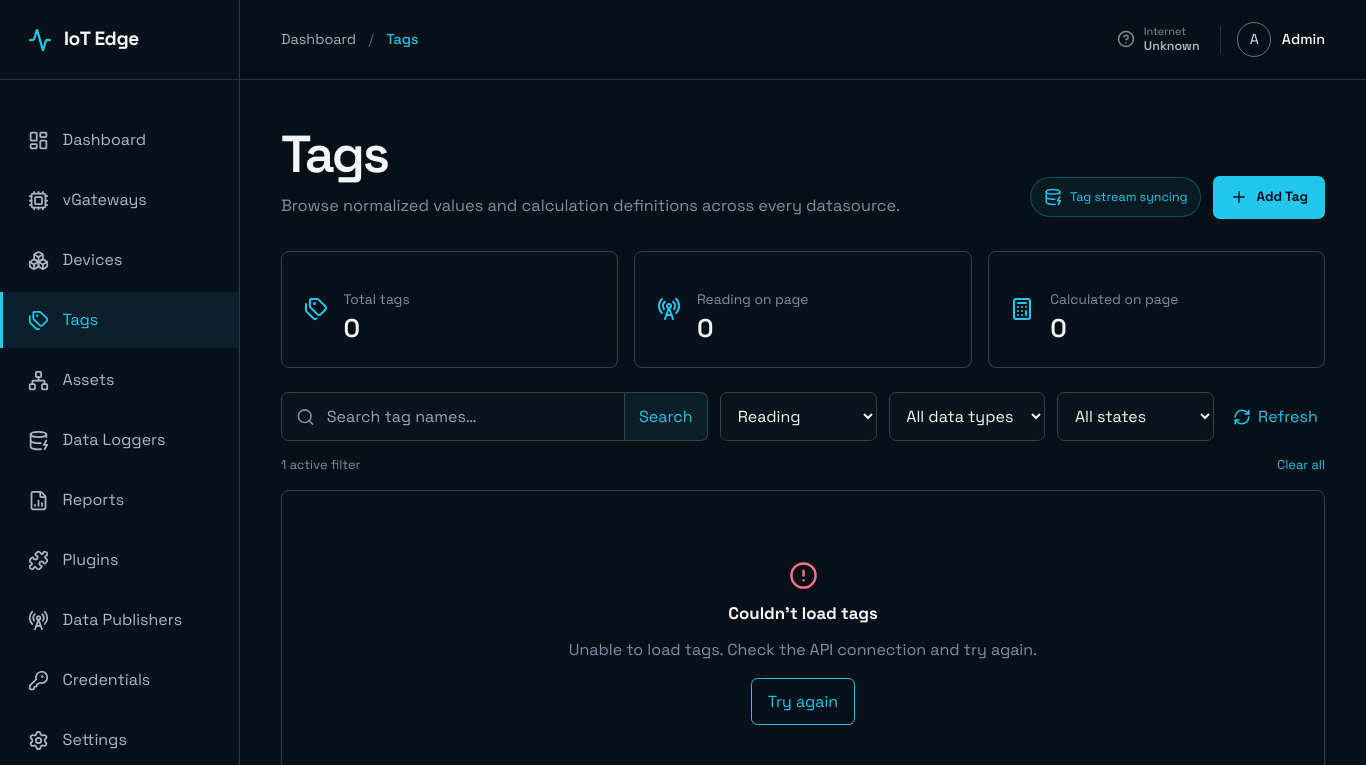
TagListPage › shows API failures and retries the same query
Check: the message that starts with "Couldn’t load tags" shows "Unable to load tags", box [569,639,1037,660]
Click the button "Try again" at (803, 702), box [751,678,855,725]
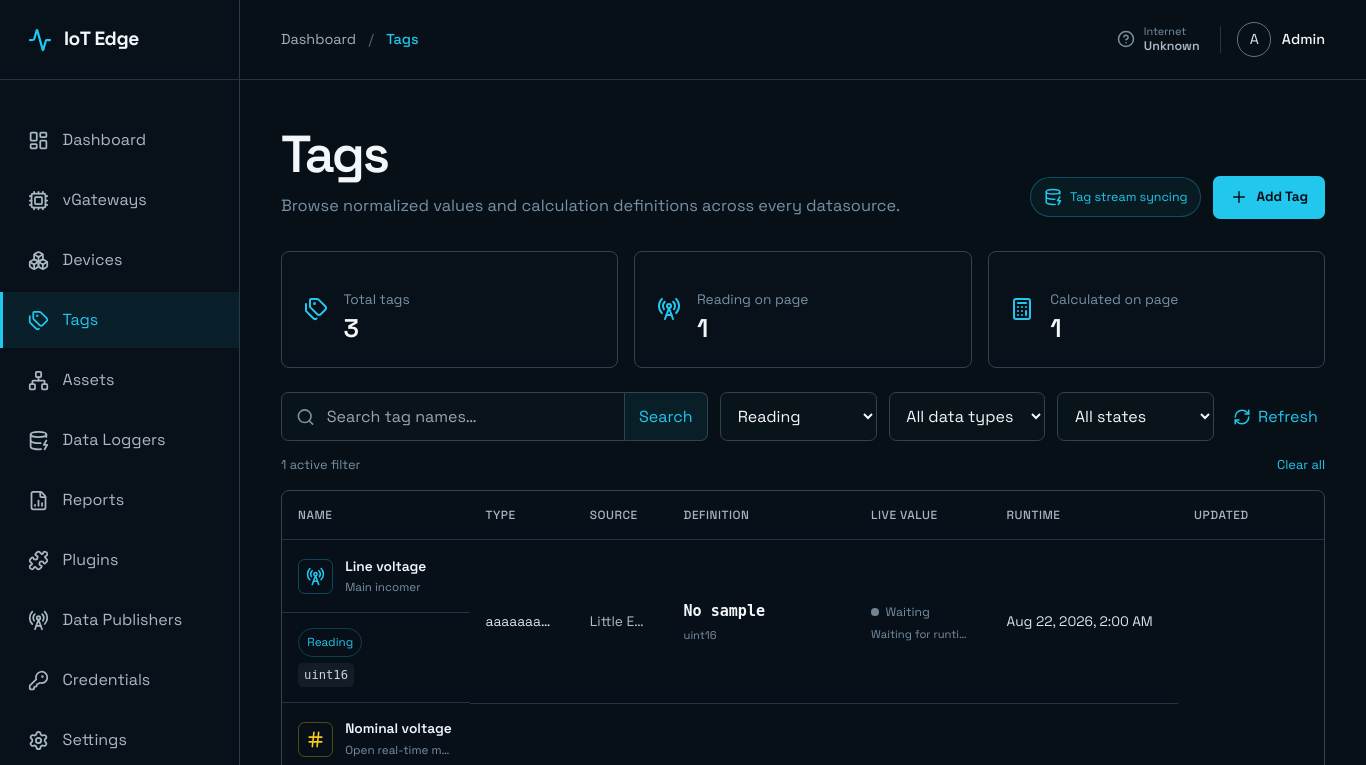
Check: the text "Line voltage" is shown, box [345,556,426,576]
